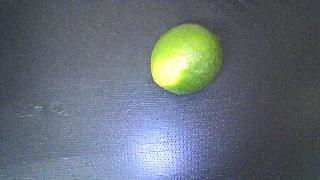EXPORTACION: (151, 23, 223, 95)
